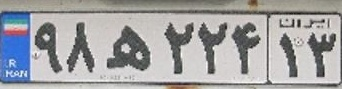character: (99, 14, 155, 82), (156, 14, 198, 80), (194, 12, 231, 84), (227, 14, 266, 81), (62, 16, 99, 81), (31, 15, 66, 79), (305, 29, 342, 82), (274, 30, 305, 81)
